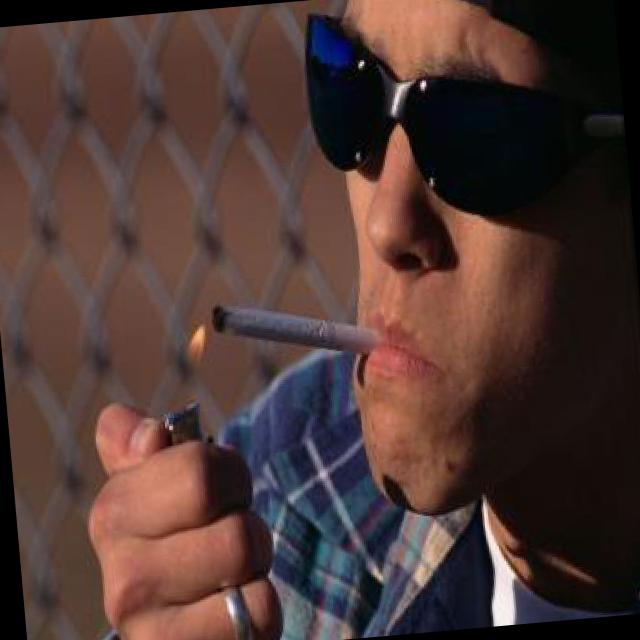Fire: (168, 312, 220, 395)
